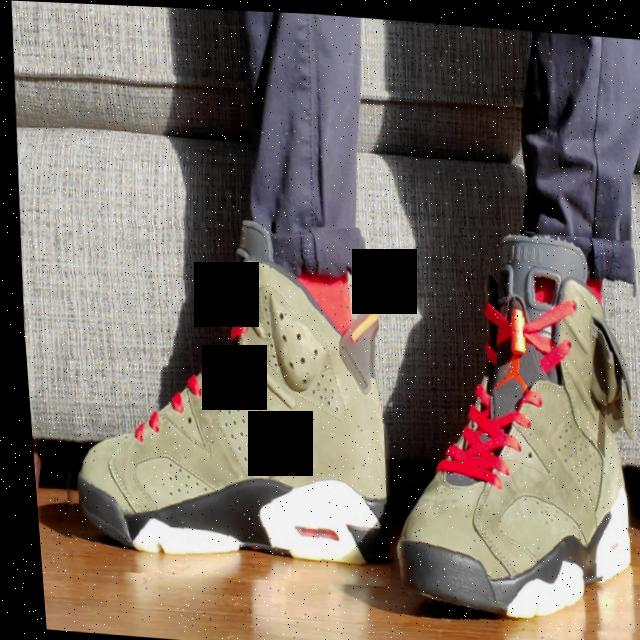shoe: (30, 203, 399, 591), (356, 217, 640, 640)
